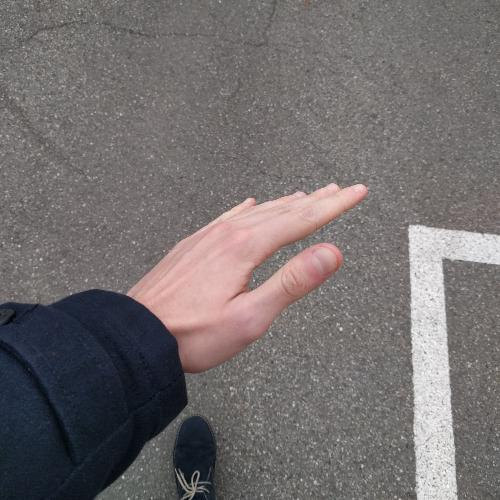paper: (117, 178, 373, 378)
